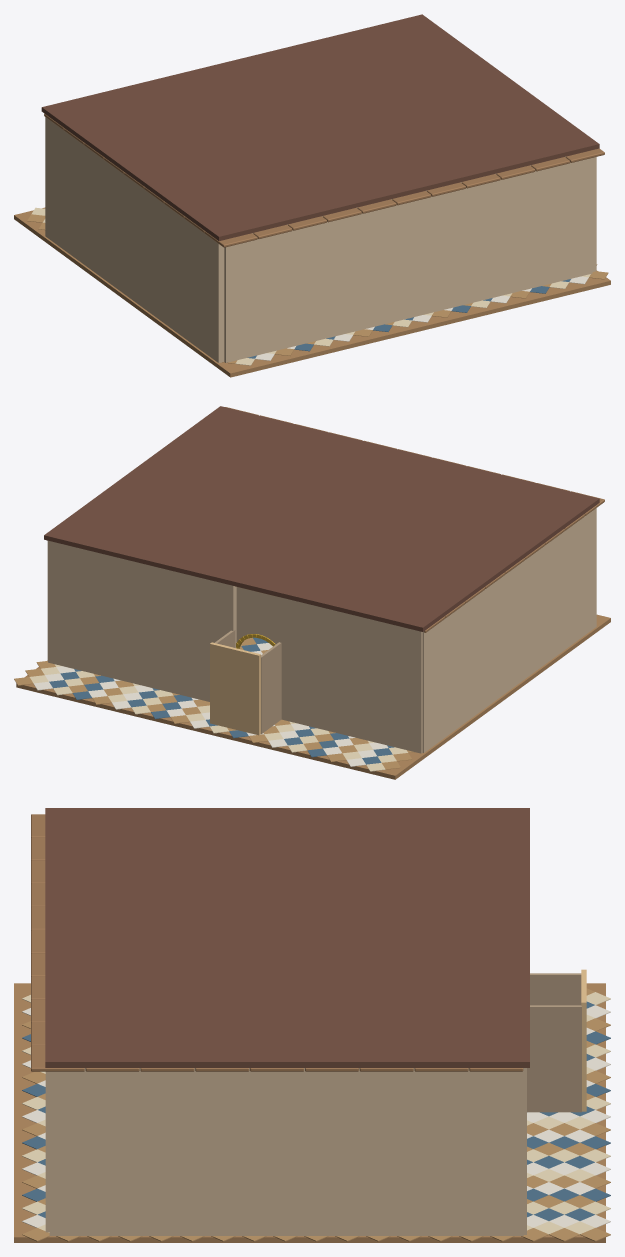
File: constantinople-palace.glb
3 views of the same model, one above another, from view 1: azimuth 30°, elevation 25°; view 2: azimuth 150°, elevation 25°; view 3: azimuth 270°, elevation 25° (orthographic). The views are drawn at different scales.
Visible parts, largest first — view 1: constantinople-palace, ground-mosaic; view 2: constantinople-palace, ground-mosaic; view 3: constantinople-palace, ground-mosaic.
Part boxes in pixels (x1=…): constantinople-palace: x1=41, y1=14, x2=604, y2=362; ground-mosaic: x1=14, y1=207, x2=610, y2=377; constantinople-palace: x1=44, y1=406, x2=604, y2=753; ground-mosaic: x1=14, y1=614, x2=610, y2=779; constantinople-palace: x1=31, y1=808, x2=586, y2=1235; ground-mosaic: x1=14, y1=983, x2=610, y2=1242.
Bounding box in the file's own units: 27.87 × 9.11 × 27.23.
